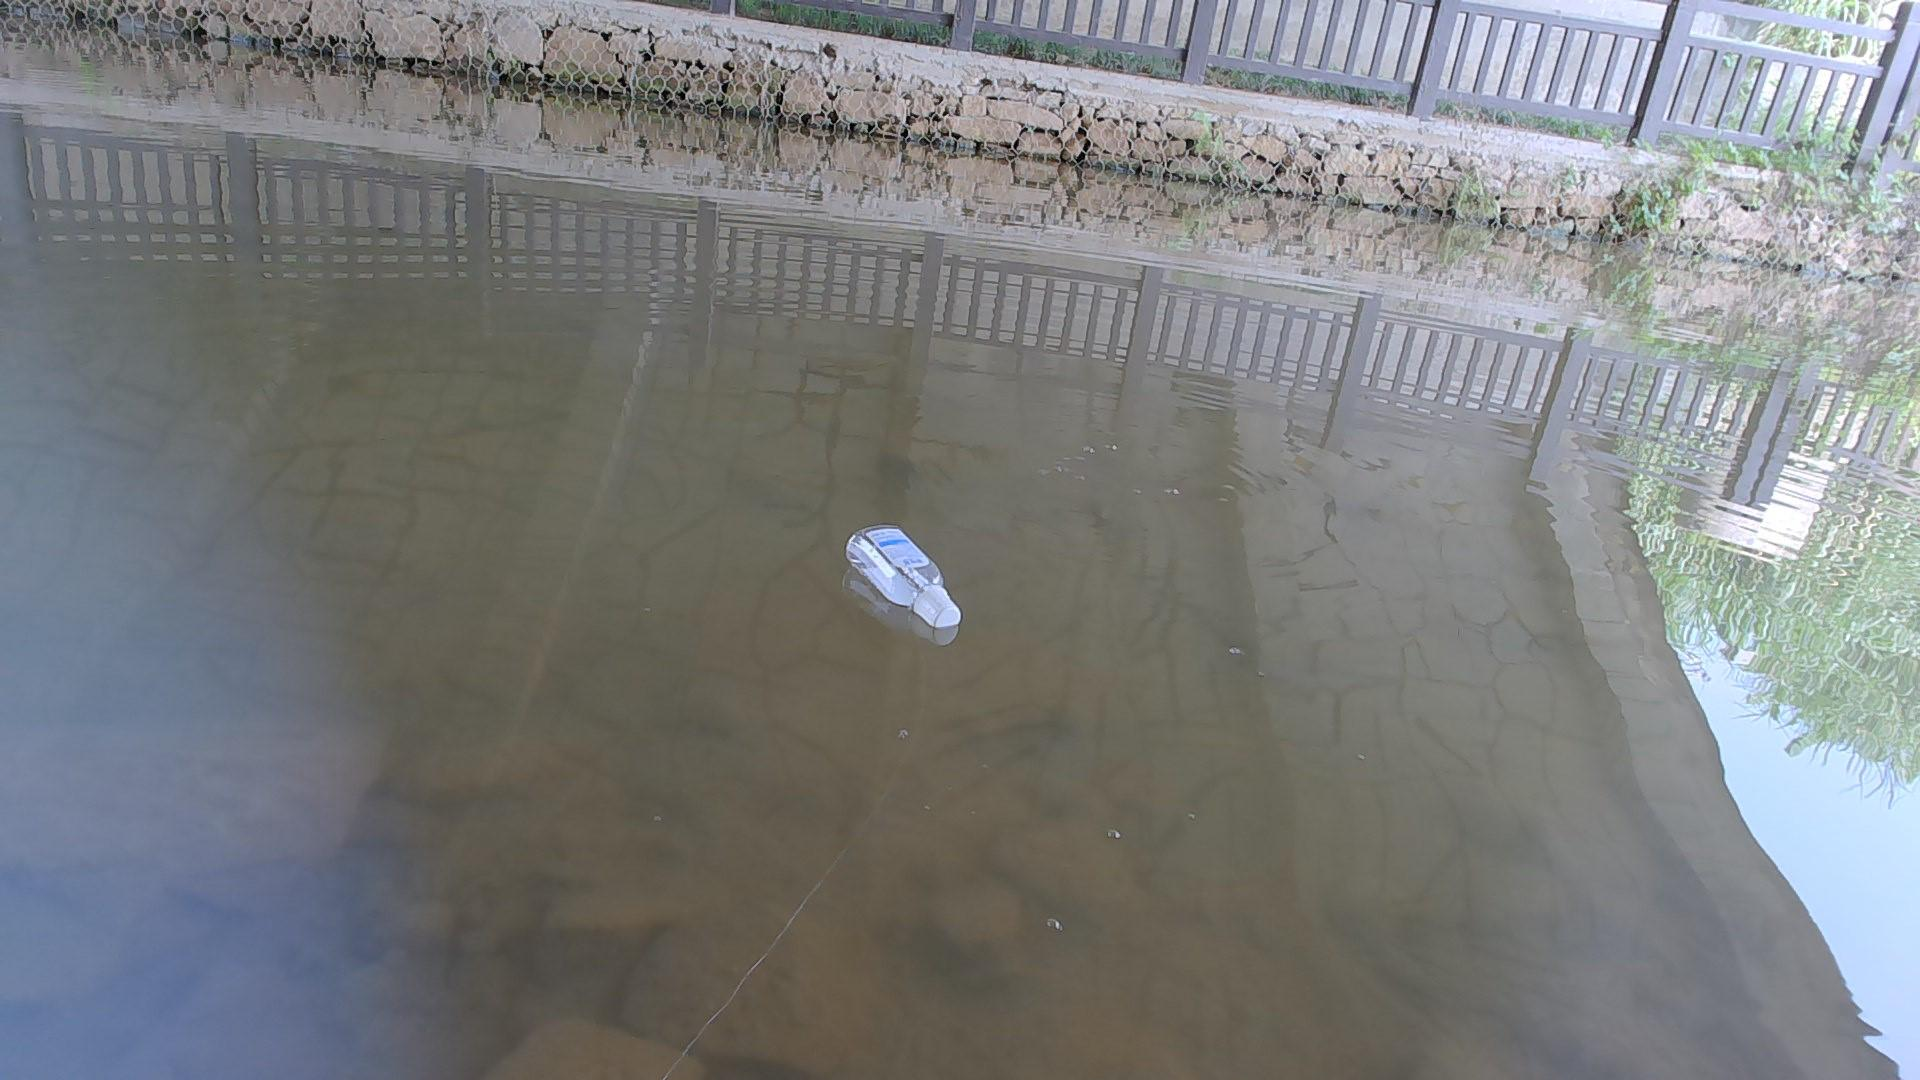Plastic: (835, 516, 967, 633)
